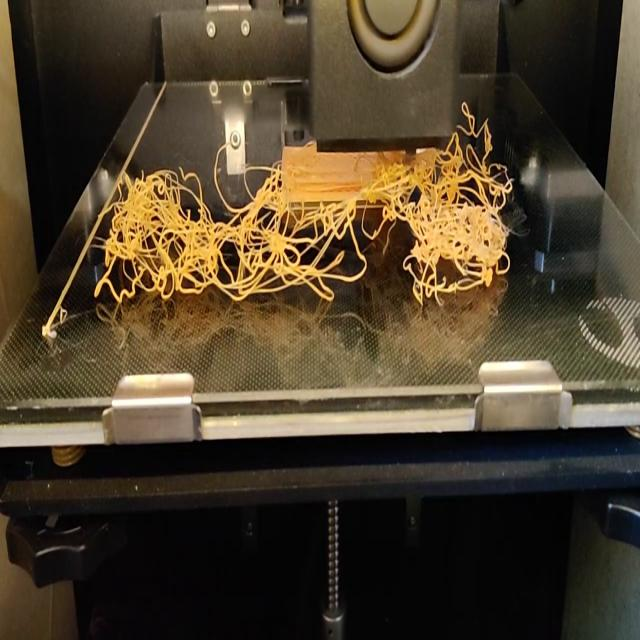spaghetti: (85, 145, 515, 309), (457, 95, 497, 147)
